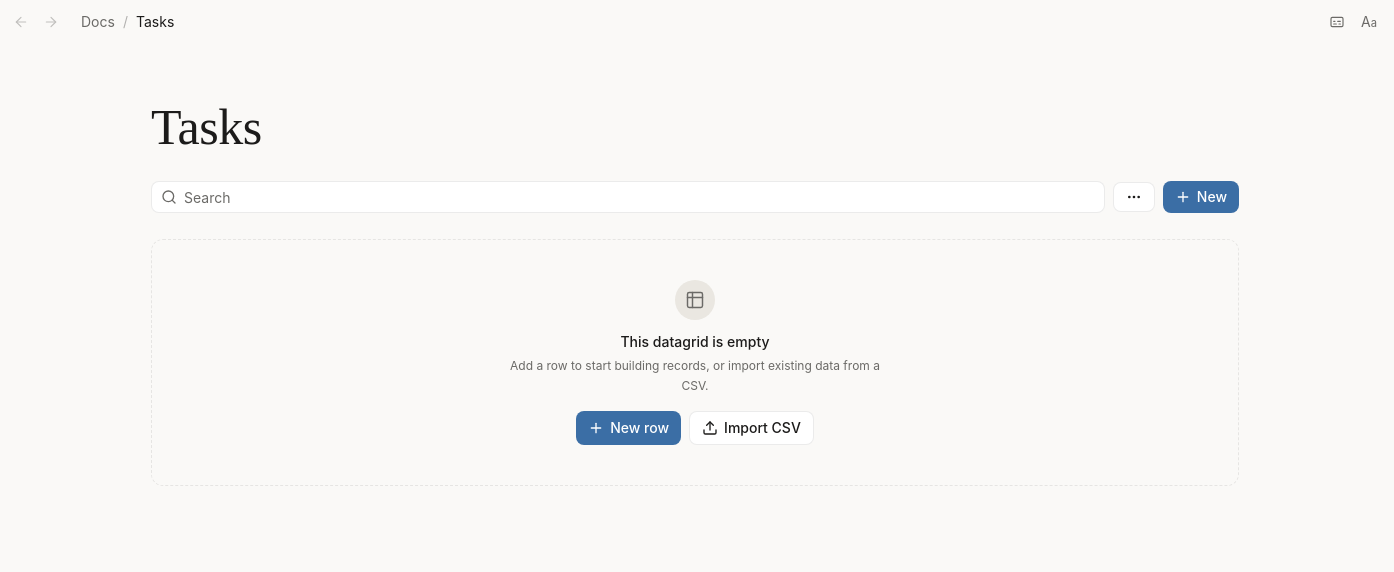
Test: DatagridPage › creating a second view from the menu shows the tab strip
Expected: the button "New view" is not shown
Click the button named "View options" at point(1134, 197), box x1=1113 y1=182 x2=1155 y2=212
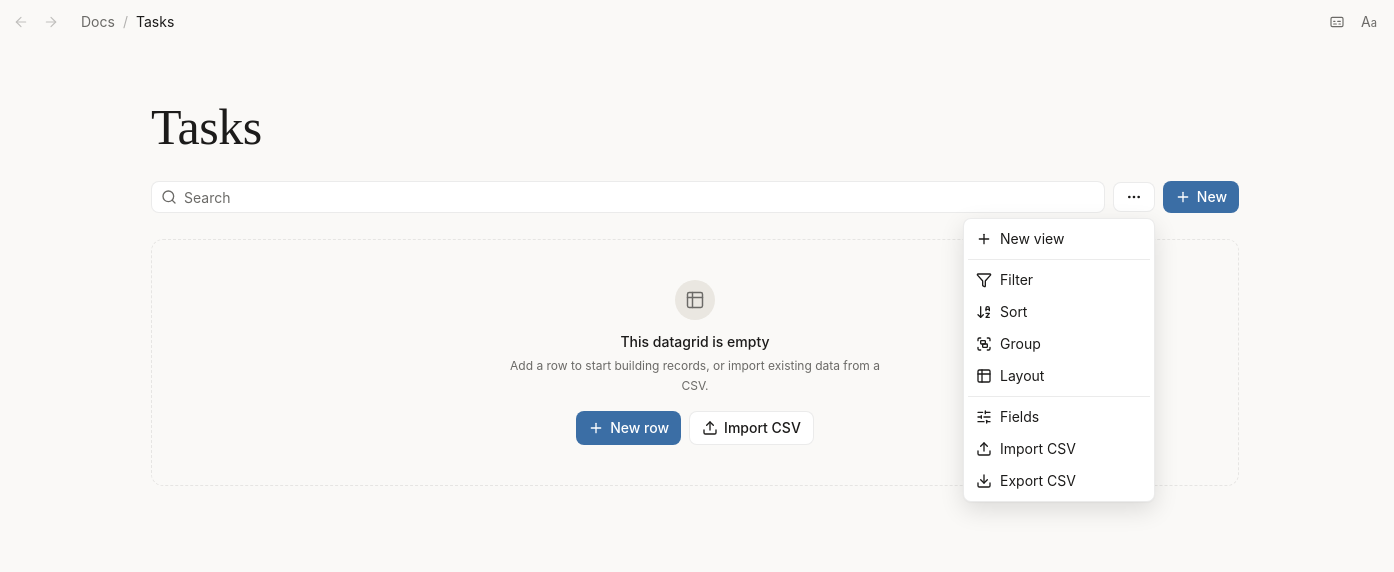
Click the menu item "New view" at point(1020, 238), box x1=976 y1=230 x2=1064 y2=247
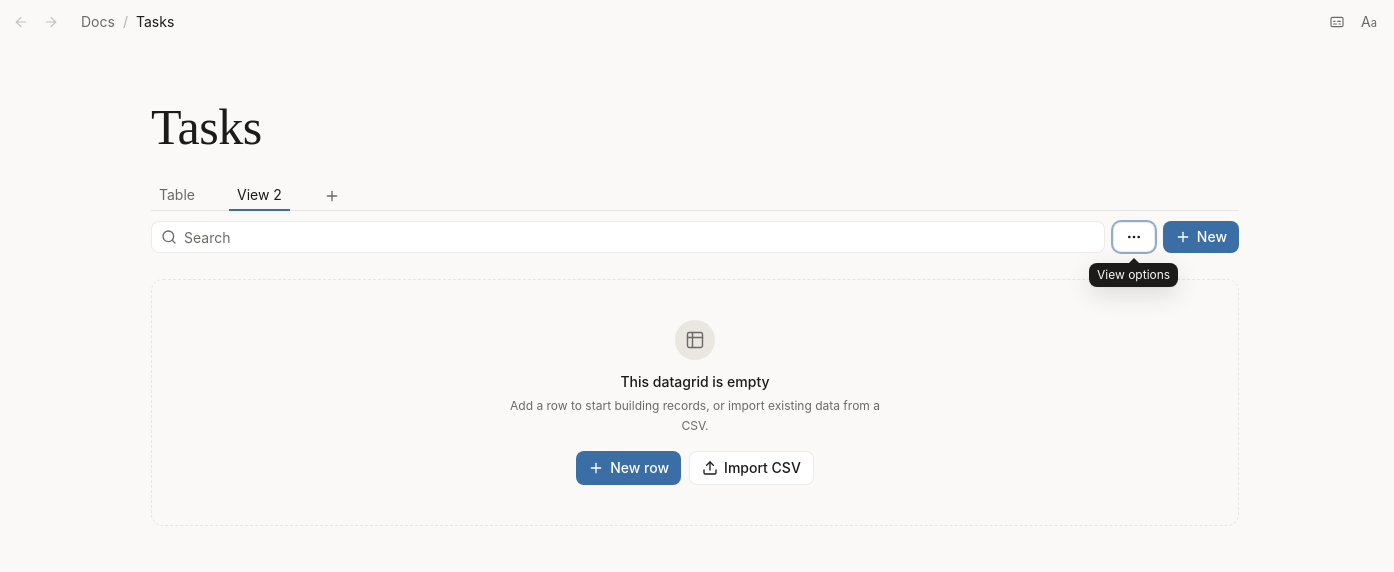
Expected: the button "Table" is shown, x1=151 y1=181 x2=203 y2=211
Expected: the button "View 2" is shown, x1=229 y1=181 x2=290 y2=211
Expected: the button named "New view" is shown, x1=320 y1=184 x2=344 y2=208
Click the button named "View options" at point(1134, 237), box x1=1113 y1=222 x2=1155 y2=252
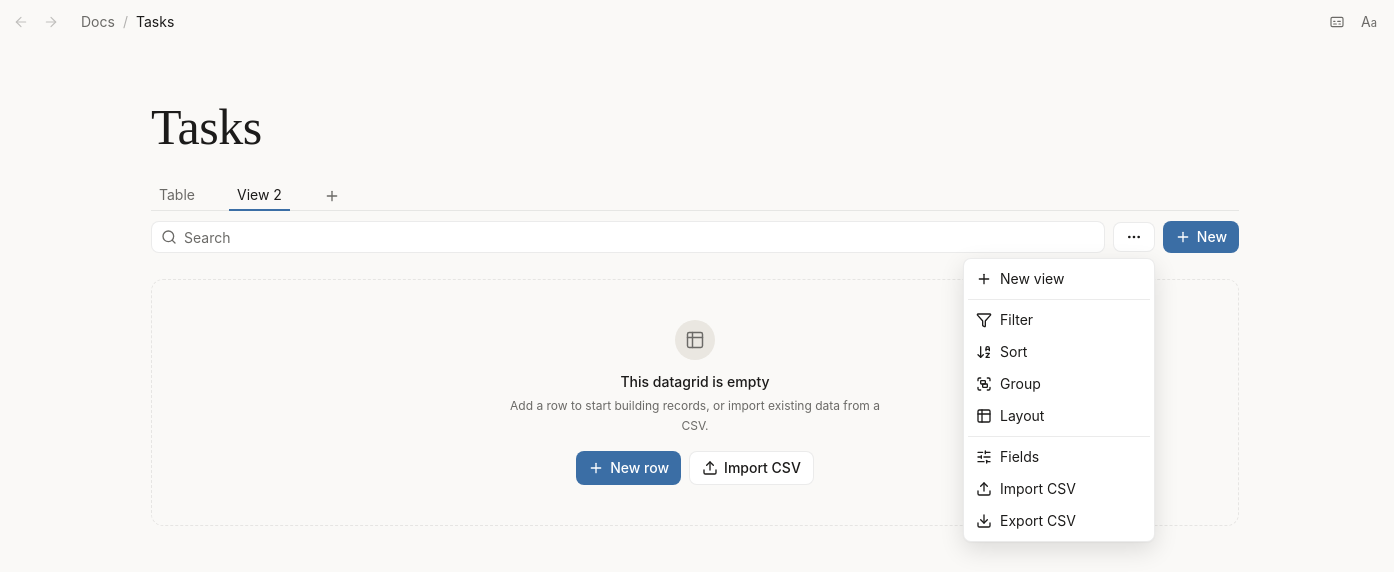
Expected: the menu item "New view" is shown, x1=976 y1=270 x2=1064 y2=287
